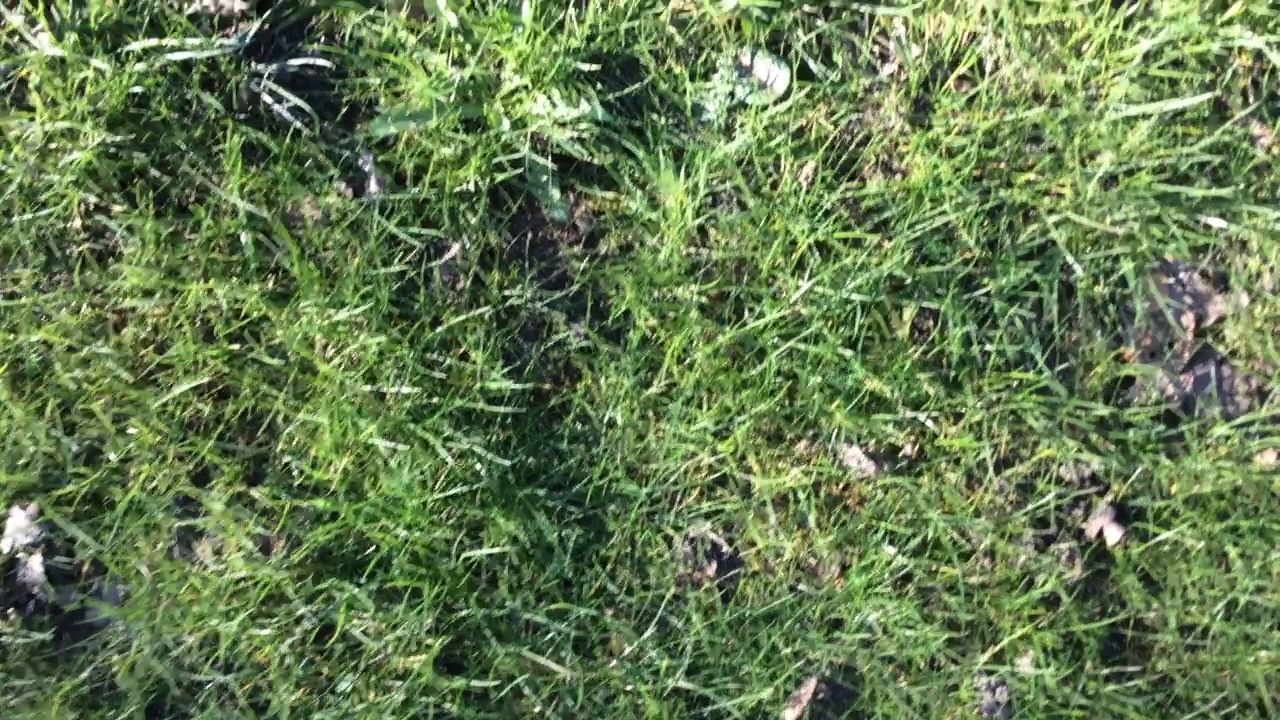rumex: (708, 47, 795, 109)
